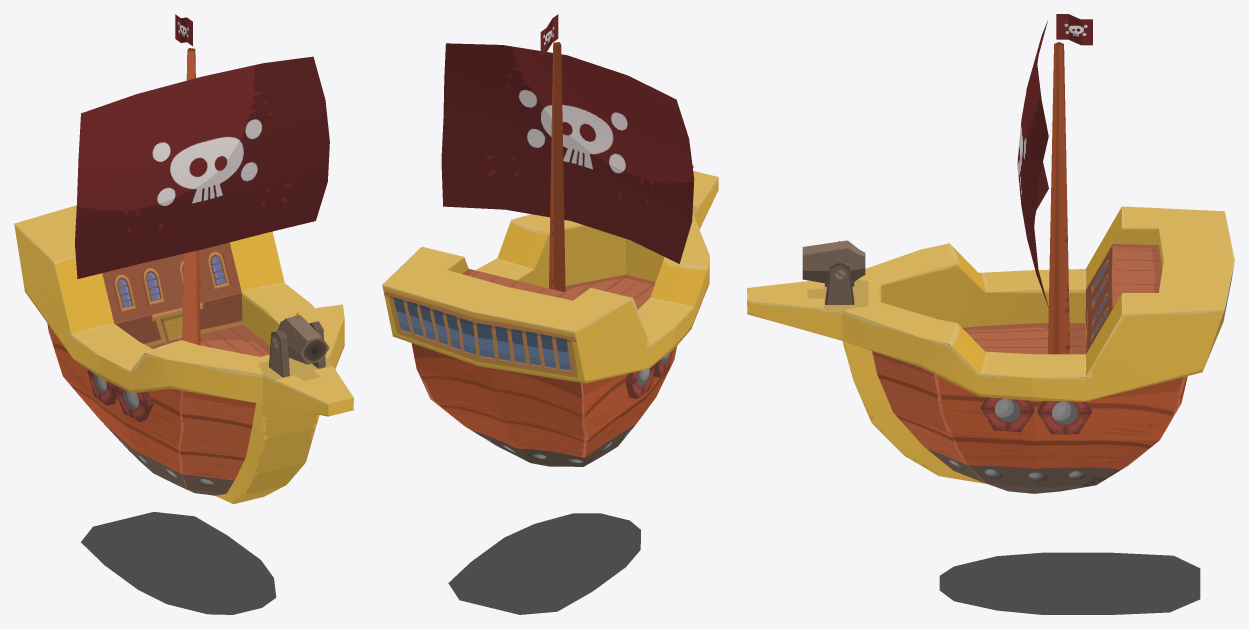
Rendered from pirate-ship.glb.
The picture shows the model from 3 angles, left to right: view 1: azimuth 30°, elevation 25°; view 2: azimuth 150°, elevation 25°; view 3: azimuth 270°, elevation 25°; orthographic projection. The views are drawn at different scales.
Visible parts, largest first — view 1: unnamed, polySurface11; view 2: unnamed, polySurface11; view 3: unnamed, polySurface11.
Part boxes in pixels (x1,y1,x2,y2): unnamed: (14, 14, 353, 504); polySurface11: (81, 512, 276, 614); unnamed: (382, 14, 718, 466); polySurface11: (448, 513, 640, 614); unnamed: (747, 14, 1234, 493); polySurface11: (939, 552, 1200, 614).
Size of the model in its own units: 2.46 by 5.08 by 3.94.
2 materials, 1 textured.
